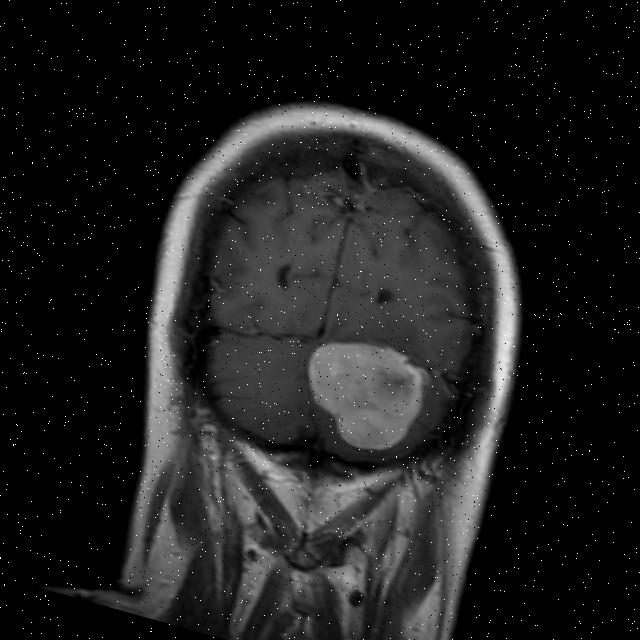Meningioma: (294, 324, 436, 466)
